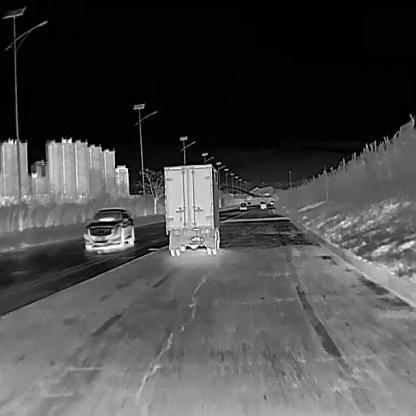car: (163, 163, 224, 255), (82, 206, 134, 251), (239, 202, 247, 210), (259, 200, 266, 208), (269, 199, 274, 204), (246, 201, 251, 205)
